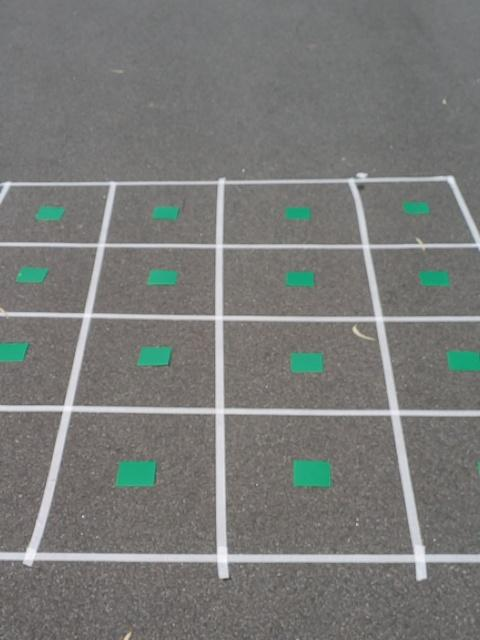weed: (113, 457, 159, 490), (289, 458, 337, 488), (289, 348, 326, 380), (136, 343, 176, 369), (446, 347, 480, 374), (0, 340, 32, 366), (283, 269, 320, 290), (144, 267, 180, 288), (33, 203, 68, 223), (16, 264, 51, 284), (419, 267, 452, 288), (283, 203, 314, 223), (151, 202, 182, 221), (401, 198, 431, 214)
